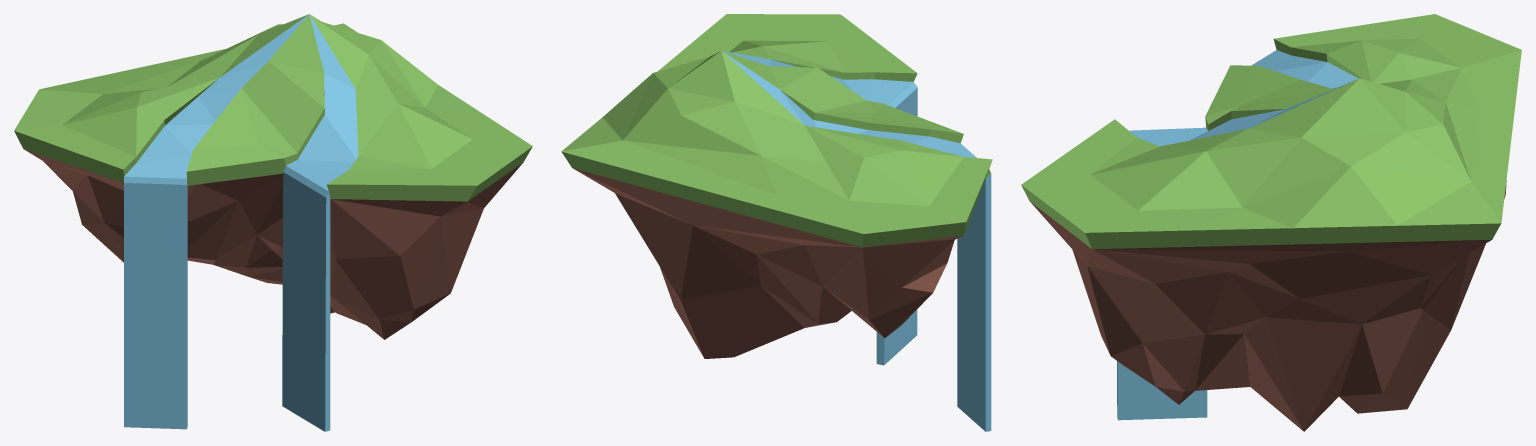
The model's file is Island16.fbx.
3 renders of one model, left to right at view 1: azimuth 30°, elevation 25°; view 2: azimuth 150°, elevation 25°; view 3: azimuth 270°, elevation 25°, orthographic. The views are drawn at different scales.
Parts seen in each view (by area): view 1: Island16; view 2: Island16; view 3: Island16.
Boxes of the visible parts, x1,y1,x2,y2 form: Island16: (14, 14, 532, 431); Island16: (561, 14, 992, 431); Island16: (1021, 14, 1521, 431).
Size of the model in its own units: 3.83 by 3.27 by 3.7.
